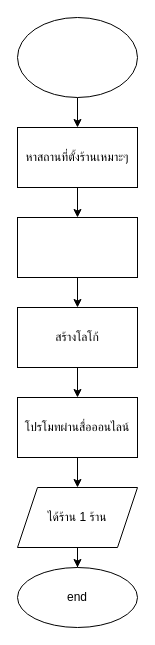
The diagram is 155 pixels wide and 645 high, and some of its shapes have lost their labels. The shapes that lost their labels are listed below. From the top down, each one's box as (x1, y1, x2, y2) in pixels, then its label:
(16, 16, 138, 98): start การเปิดร้านขายอาหาร
(16, 216, 138, 278): ออกแปบร้าน ว่าจะเป็นร้านแนวไหน ขายอะไร
